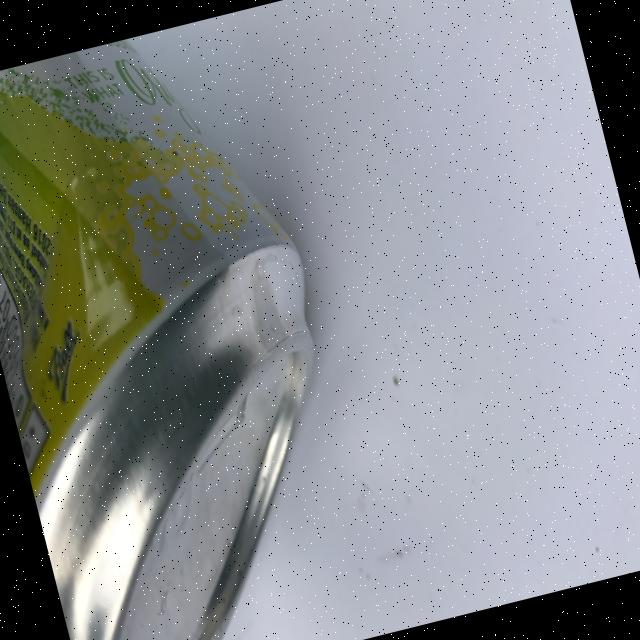metal: (0, 10, 393, 640)
